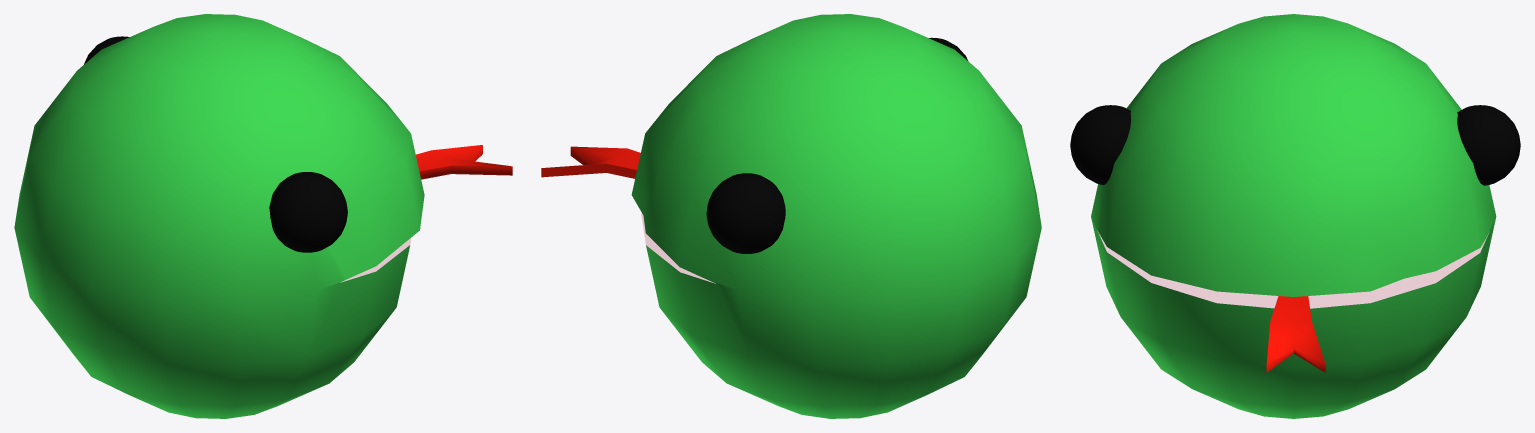
The model's file is snakehead.fbx.
3 views of the same model, side by side, from view 1: azimuth 30°, elevation 25°; view 2: azimuth 150°, elevation 25°; view 3: azimuth 270°, elevation 25° (orthographic).
Parts seen in each view (by area): view 1: Kugel_2, Kugel, Würfel; view 2: Kugel_2, Kugel_1, Würfel, Würfel_2; view 3: Kugel_2, Würfel_2, Kugel_1, Kugel, Würfel.
Part boxes in pixels (x1,y1,x2,y2): Kugel_2: (14, 14, 424, 418); Kugel: (269, 172, 347, 252); Würfel: (416, 145, 512, 179); Kugel_2: (631, 14, 1041, 418); Kugel_1: (706, 173, 785, 253); Würfel: (541, 146, 640, 178); Würfel_2: (641, 213, 715, 283); Kugel_2: (1091, 14, 1496, 418); Würfel_2: (1097, 231, 1489, 308); Kugel_1: (1457, 105, 1520, 185); Kugel: (1070, 105, 1130, 184); Würfel: (1266, 296, 1325, 372).
Bounding box in the file's own units: 2.61 × 2 × 2.22.
